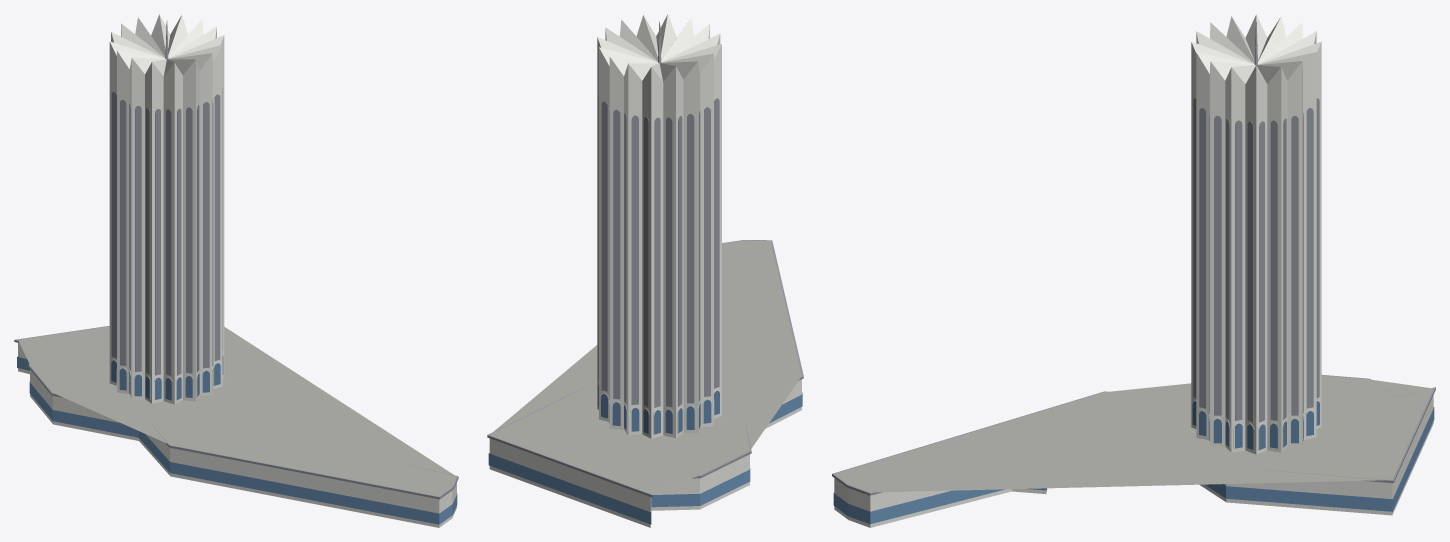
File: env_lm3_dayabumi.fbx
The picture shows the model from 3 angles, left to right: view 1: azimuth 30°, elevation 25°; view 2: azimuth 150°, elevation 25°; view 3: azimuth 270°, elevation 25°; orthographic projection. The views are drawn at different scales.
Visible parts, largest first — view 1: env_lm3_dayabumi_geo_LOD0; view 2: env_lm3_dayabumi_geo_LOD0; view 3: env_lm3_dayabumi_geo_LOD0.
Boxes of the visible parts, <box> form: env_lm3_dayabumi_geo_LOD0: <box>14,14,458,527</box>; env_lm3_dayabumi_geo_LOD0: <box>487,14,803,527</box>; env_lm3_dayabumi_geo_LOD0: <box>832,14,1435,527</box>.
Size of what is drawn, in the model's own units: 66.02 by 112 by 139.
